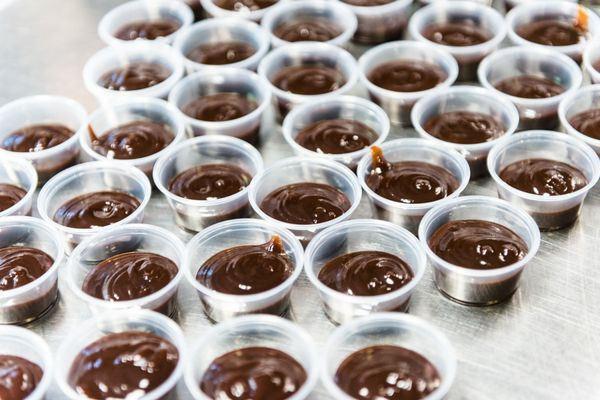sushi: (418, 196, 541, 307), (303, 218, 427, 326), (182, 218, 304, 323), (317, 312, 459, 399), (51, 309, 188, 397), (59, 223, 185, 318), (486, 128, 600, 231), (190, 314, 321, 399), (151, 133, 263, 232), (357, 137, 470, 234), (36, 160, 151, 251), (246, 156, 362, 243), (410, 85, 520, 174), (357, 39, 460, 127), (477, 45, 585, 127), (406, 0, 509, 82), (281, 95, 391, 170), (78, 98, 184, 173), (258, 42, 361, 118), (0, 93, 87, 180), (0, 216, 67, 326), (169, 68, 270, 139), (82, 44, 184, 109), (503, 0, 598, 64), (175, 17, 271, 76), (97, 0, 195, 48), (262, 0, 358, 48), (0, 324, 54, 398), (557, 83, 600, 160), (0, 152, 37, 218)
